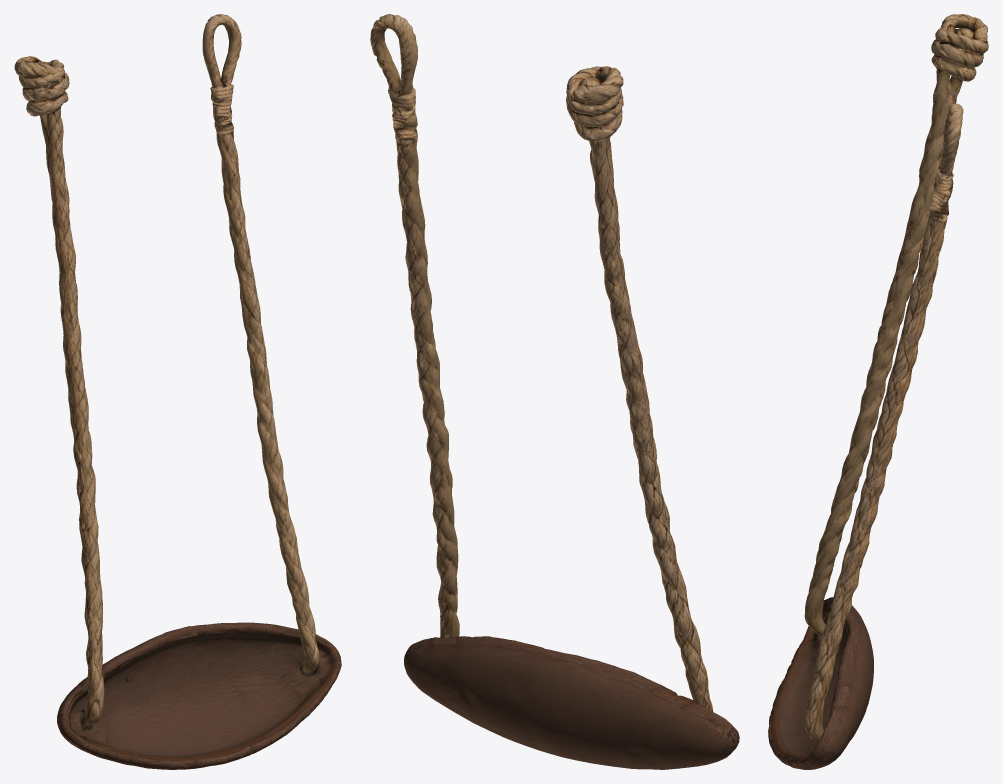
File: david_rotating_sling.glb
3 renders of one model, left to right at view 1: azimuth 30°, elevation 25°; view 2: azimuth 150°, elevation 25°; view 3: azimuth 270°, elevation 25°, orthographic. The views are drawn at different scales.
Visible parts, largest first — view 1: tripo_node_b78c1155-e7f5-4935-9f64-1bcdae4851f8; view 2: tripo_node_b78c1155-e7f5-4935-9f64-1bcdae4851f8; view 3: tripo_node_b78c1155-e7f5-4935-9f64-1bcdae4851f8.
Boxes of the visible parts, x1,y1,x2,y2 form: tripo_node_b78c1155-e7f5-4935-9f64-1bcdae4851f8: (14, 14, 341, 769); tripo_node_b78c1155-e7f5-4935-9f64-1bcdae4851f8: (370, 14, 739, 769); tripo_node_b78c1155-e7f5-4935-9f64-1bcdae4851f8: (768, 14, 988, 769).
Bounding box in the file's own units: 0.431 × 0.9796 × 0.2893.
Materials: 1 (1 with a texture image).
